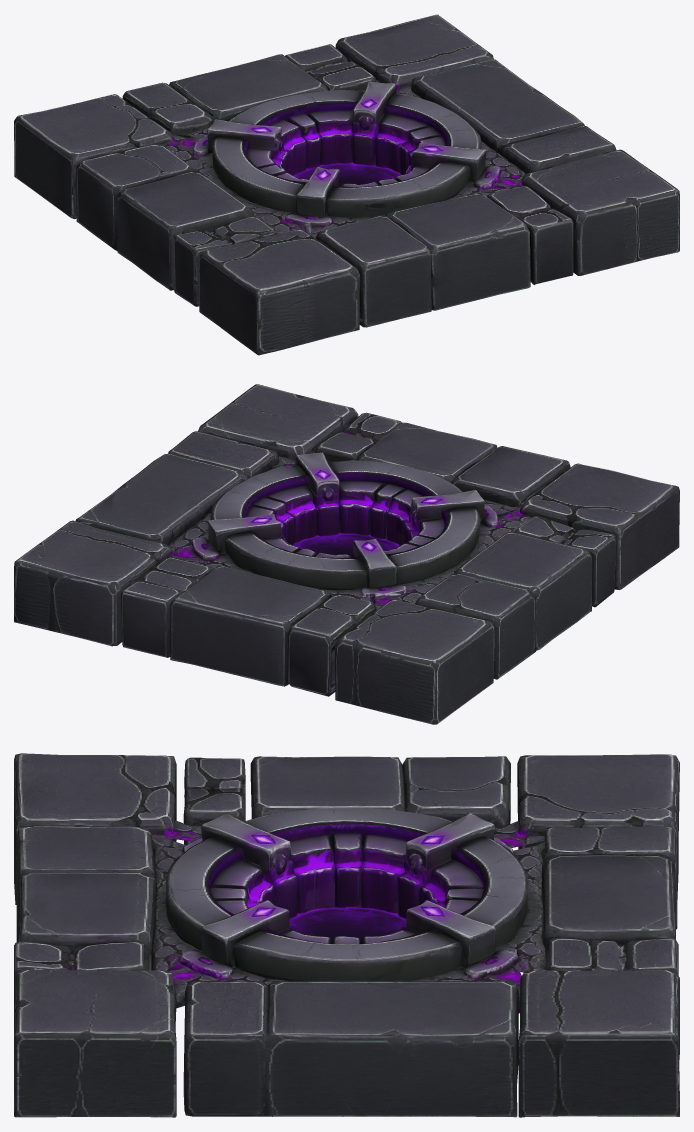
The model's file is void_sprung.glb.
3 renders of one model, top to bottom at view 1: azimuth 30°, elevation 25°; view 2: azimuth 150°, elevation 25°; view 3: azimuth 270°, elevation 25°, orthographic. The views are drawn at different scales.
Bounding box in the file's own units: 1 × 0.1714 × 1.
Materials: 1 (1 with a texture image).
